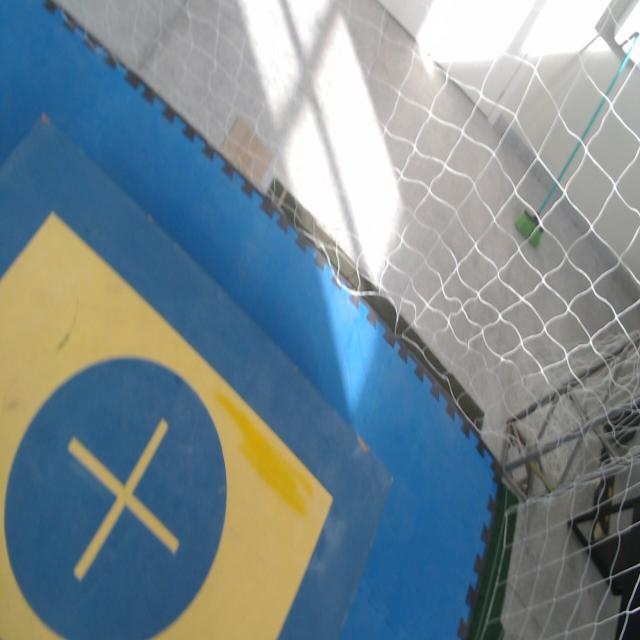base_inicio: (0, 208, 335, 639)
